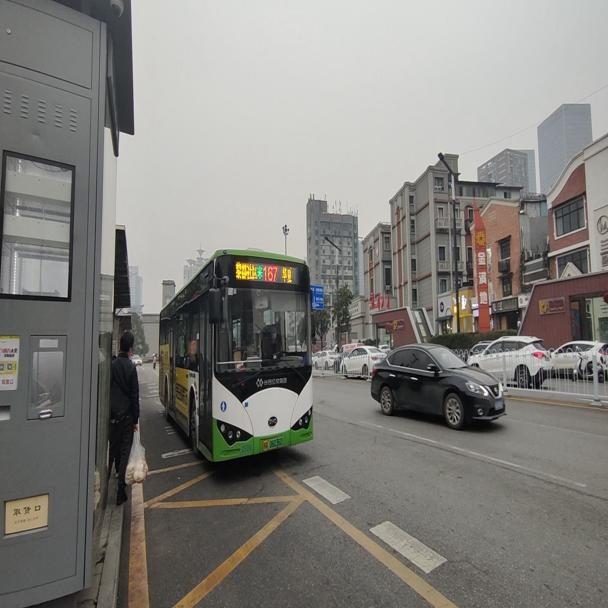bus: (158, 246, 314, 465)
screen: (262, 265, 278, 280)
